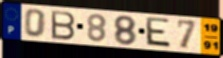0: (23, 8, 47, 40)
7: (176, 19, 198, 51)
8: (112, 14, 139, 46), (86, 14, 109, 44)
B: (49, 9, 77, 41)
E: (144, 16, 173, 50)
